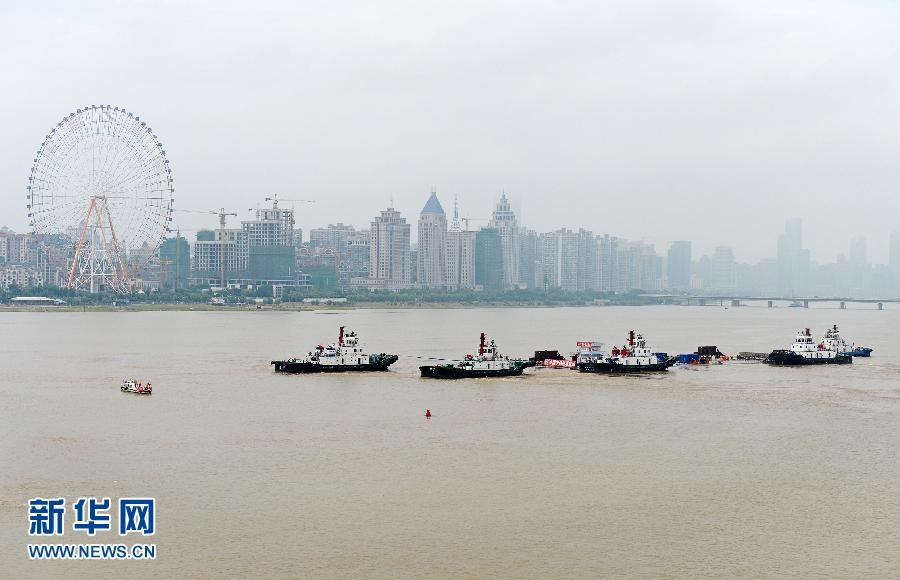otherboat: (267, 328, 398, 375), (414, 328, 530, 381), (575, 329, 678, 379), (761, 328, 829, 366), (117, 373, 155, 395)
